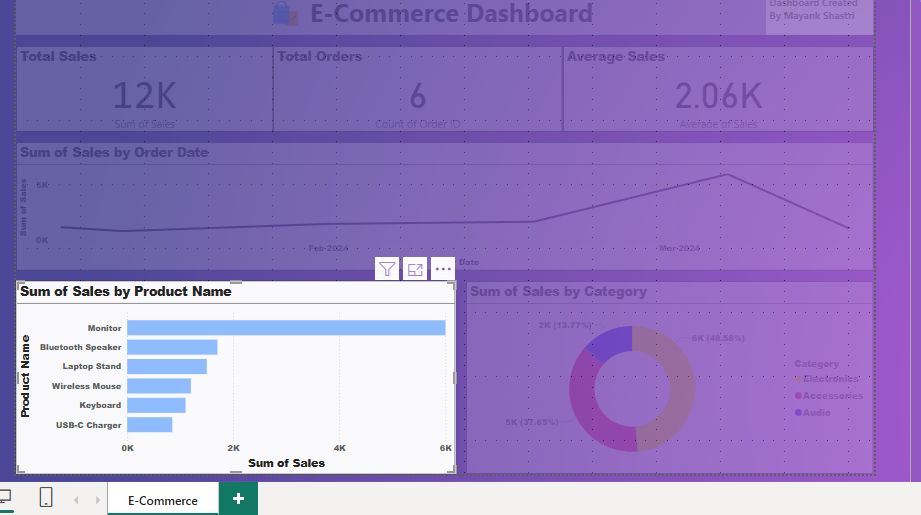

The page's visual inventory and layout, read from the dashboard file:
{"tool":"powerbi","page":{"name":"E-Commerce","canvas":[1280,720],"ordinal":0},"visuals":[{"type":"card","title":"Total Sales","fields":{"Values":["Sum(ecommerce_sales.Sales)"]},"box":[0,80,384,128],"z":0},{"type":"lineChart","fields":{"Y":["Sum(ecommerce_sales.Sales)"],"Category":["ecommerce_sales.Order Date"]},"box":[0,224,1280,192],"z":1000},{"type":"barChart","fields":{"Category":["ecommerce_sales.Product Name"],"Y":["Sum(ecommerce_sales.Sales)"]},"box":[0,432,656,288],"z":2000},{"type":"donutChart","fields":{"Category":["ecommerce_sales.Category"],"Y":["Sum(ecommerce_sales.Sales)"]},"box":[672,432,608,288],"z":3000},{"type":"textbox","box":[0,0,1280,64],"z":4000},{"type":"card","title":"Total Orders","fields":{"Values":["Count(ecommerce_sales.Order ID)"]},"box":[384,80,432,128],"z":5000},{"type":"card","title":"Average Sales","fields":{"Values":["Avg(ecommerce_sales.Sales)"]},"box":[816,80,464,128],"z":6000},{"type":"textbox","box":[1120,0,160,64],"z":8000}]}

Visuals, with their boxes on the page's 1280x720 design canvas (x1, y1, x2, y2). These are canvas units, not pixel positions in the 921x515 screenshot, which may show the page scaled, cropped or inside an application window:
"Total Sales" card: l=0, t=80, r=384, b=208
lineChart - Sum(ecommerce_sales.Sales) x ecommerce_sales.Order Date: l=0, t=224, r=1280, b=416
barChart - ecommerce_sales.Product Name x Sum(ecommerce_sales.Sales): l=0, t=432, r=656, b=720
donutChart - ecommerce_sales.Category x Sum(ecommerce_sales.Sales): l=672, t=432, r=1280, b=720
textbox: l=0, t=0, r=1280, b=64
"Total Orders" card: l=384, t=80, r=816, b=208
"Average Sales" card: l=816, t=80, r=1280, b=208
textbox: l=1120, t=0, r=1280, b=64
